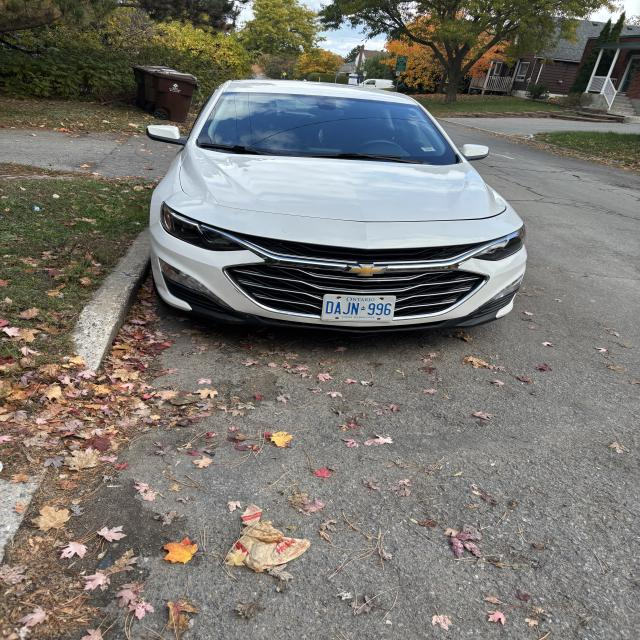plaque: (322, 295, 396, 322)
